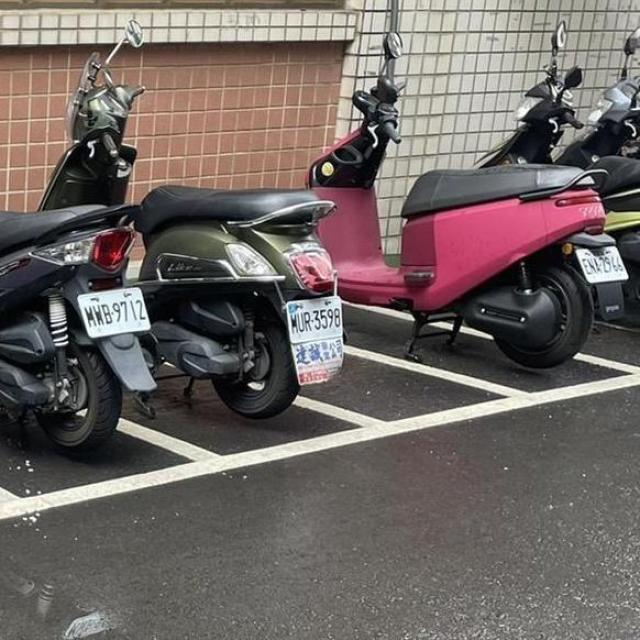W: (70, 280, 158, 342), (278, 290, 350, 346), (572, 240, 633, 289)
